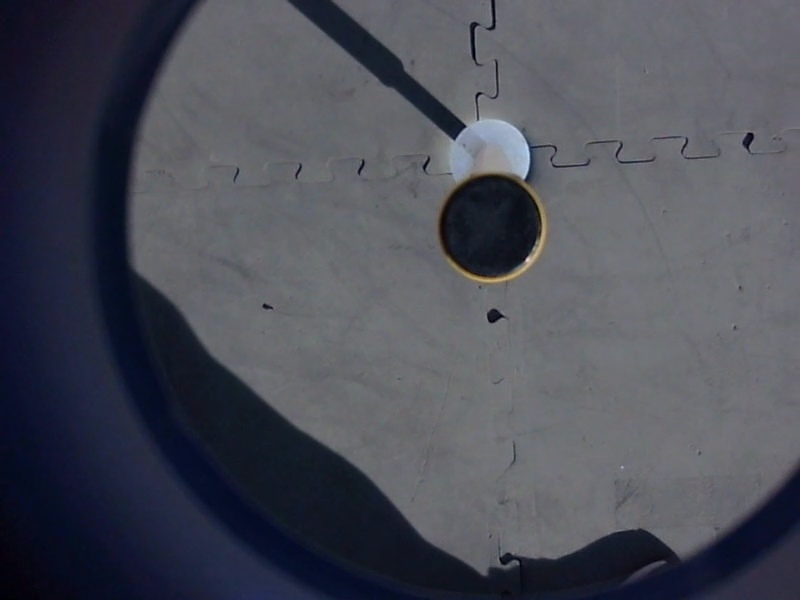tip: (429, 168, 552, 286)
